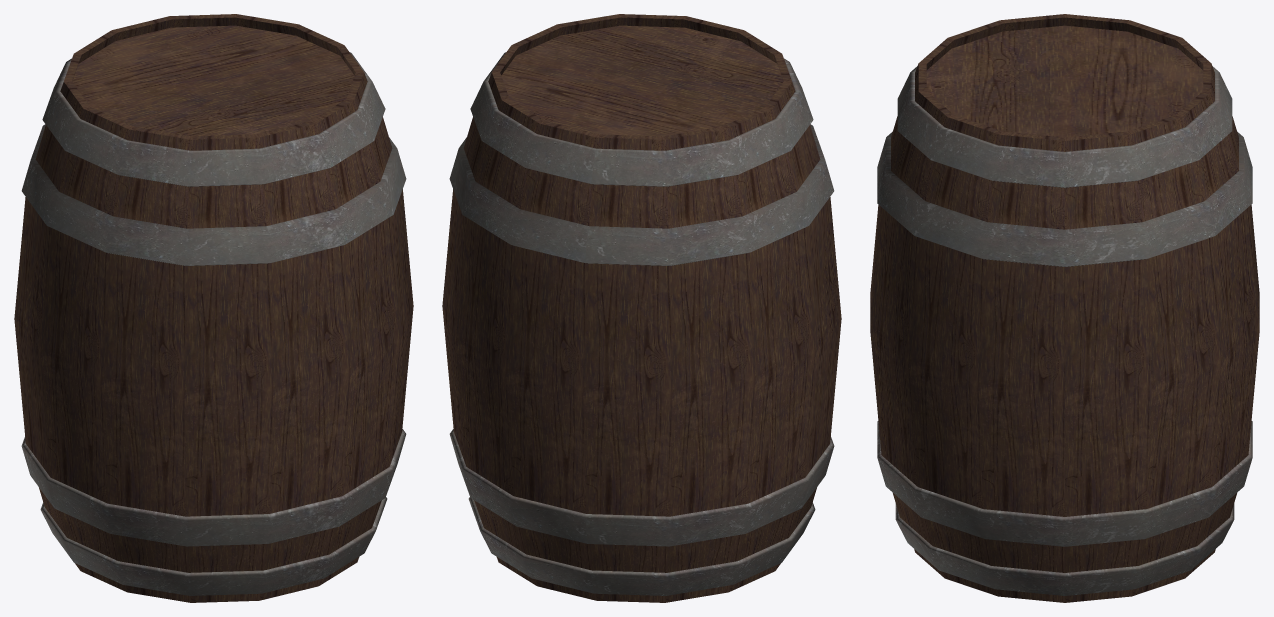
File: barrel.fbx
The picture shows the model from 3 angles, left to right: view 1: azimuth 30°, elevation 25°; view 2: azimuth 150°, elevation 25°; view 3: azimuth 270°, elevation 25°; orthographic projection.
Parts seen in each view (by area): view 1: barrel; view 2: barrel; view 3: barrel.
Part boxes in pixels (x1,y1,x2,y2): barrel: (14, 14, 413, 602); barrel: (442, 14, 841, 602); barrel: (870, 14, 1259, 602).
Bounding box in the file's own units: 0.7512 × 0.9559 × 0.7324.
